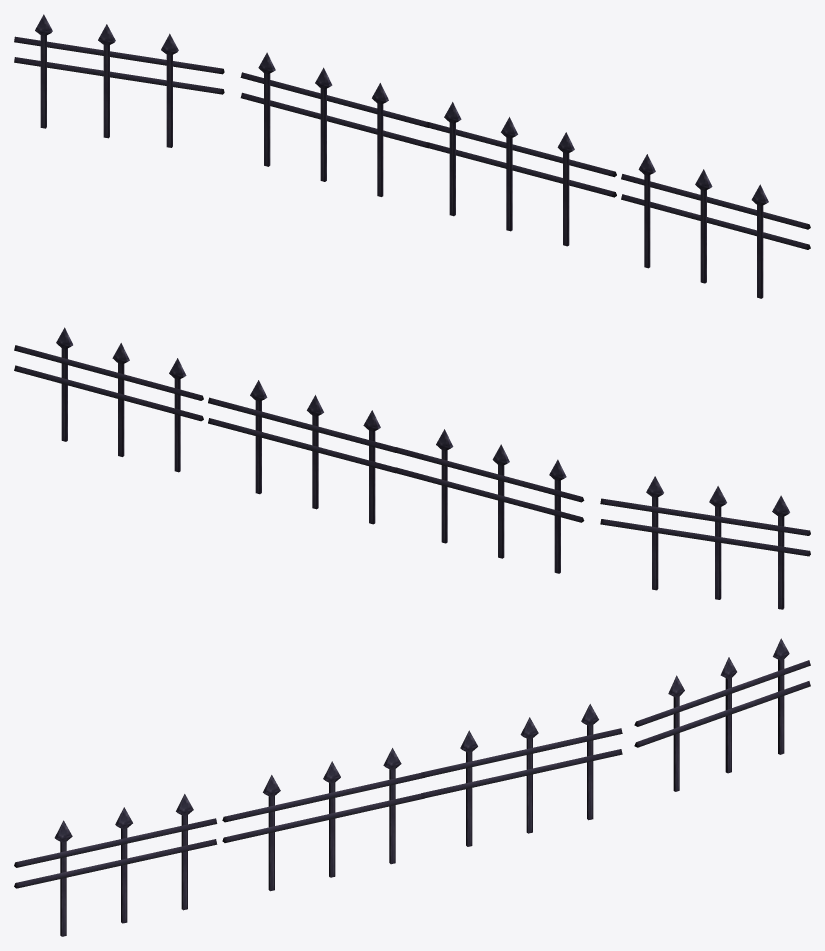
The model's file is Area12_25.fbx.
3 renders of one model, top to bottom at view 1: azimuth 30°, elevation 25°; view 2: azimuth 210°, elevation 25°; view 3: azimuth 270°, elevation 25°, orthographic.
Visible parts, largest first — view 1: Area12_25; view 2: Area12_25; view 3: Area12_25.
Boxes of the visible parts, bbox=[...] form: Area12_25: bbox=[14, 14, 810, 298]; Area12_25: bbox=[14, 327, 810, 609]; Area12_25: bbox=[14, 638, 810, 936].
Bounding box in the file's own units: 1628 × 436 × 2700.
